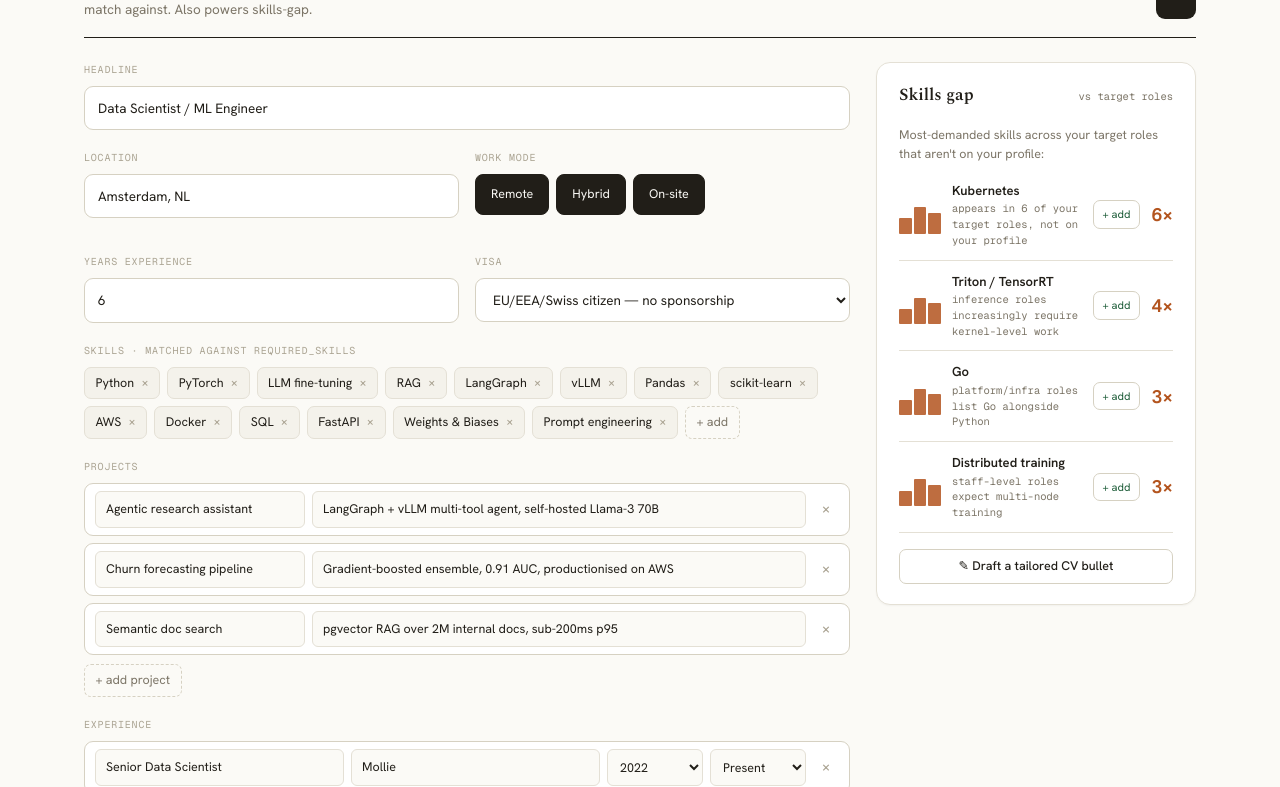
Test case: CandidateView › persists a skills-gap add immediately, without pressing Save
This screenshot has width=1280, height=787.
Click the button "+ add" below "Kubernetes": coordinates (1116, 215) 1092,200 -> 1140,229
(page scrolled)
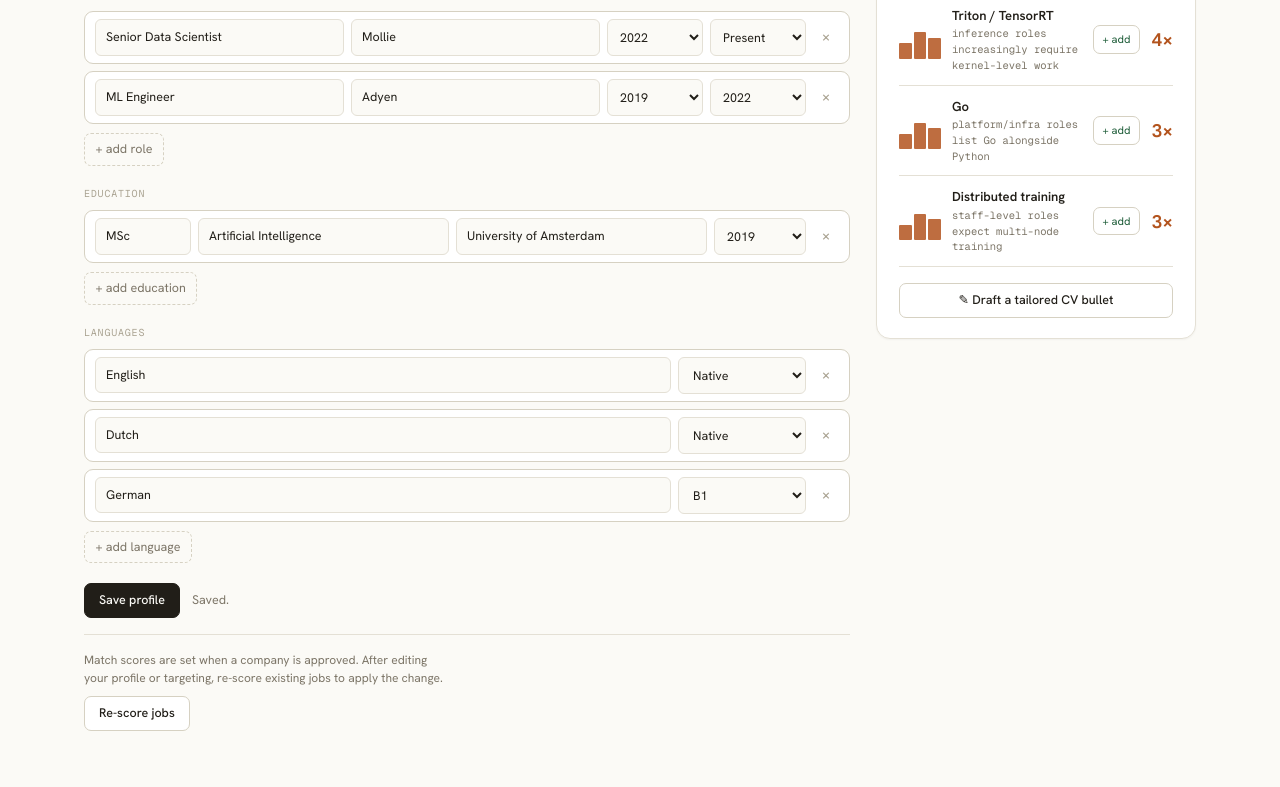
Result: the text "Saved." is shown at 192,591 -> 229,610
